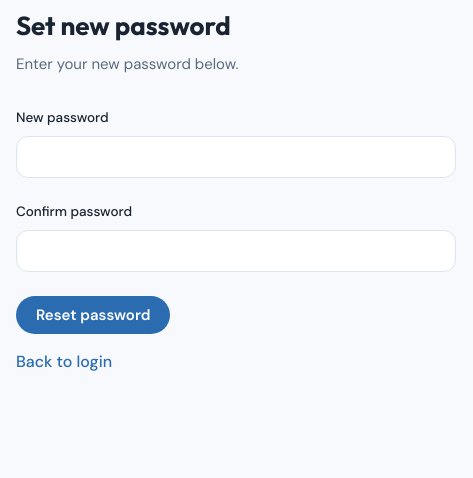
Test case: ResetPassword page › shows a validation error for a password missing required character classes
Type "alllowercase" into the password field labelled "New password" at [236, 157], box [16,136,456,178]
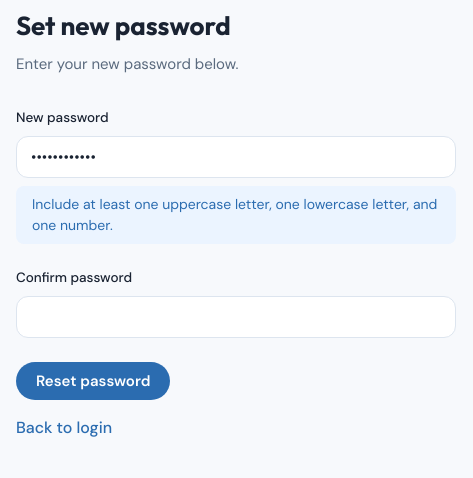
Type "alllowercase" into the password field labelled "Confirm password" at [236, 317], box [16,296,456,338]
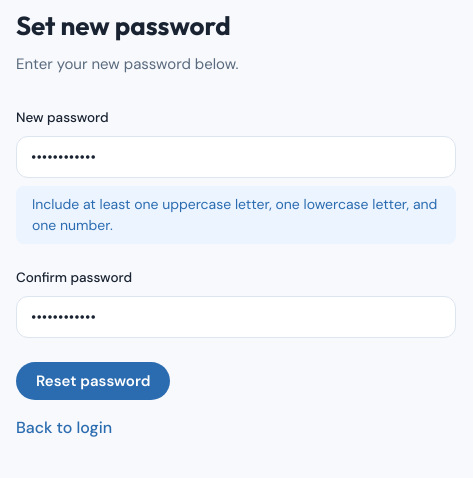
Click the button "Reset password" at [93, 381], box [16,362,170,400]
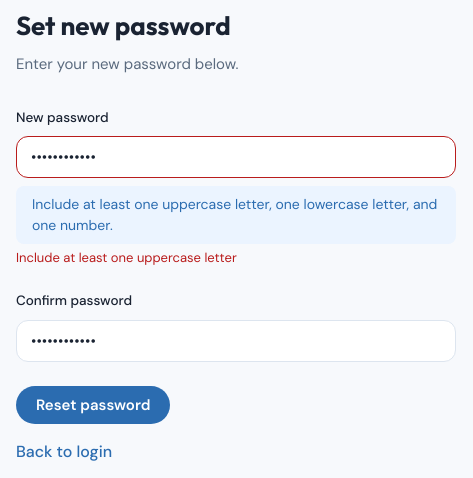
Expected: the text "Include at least one uppercase letter" is shown, [16,249,237,266]
